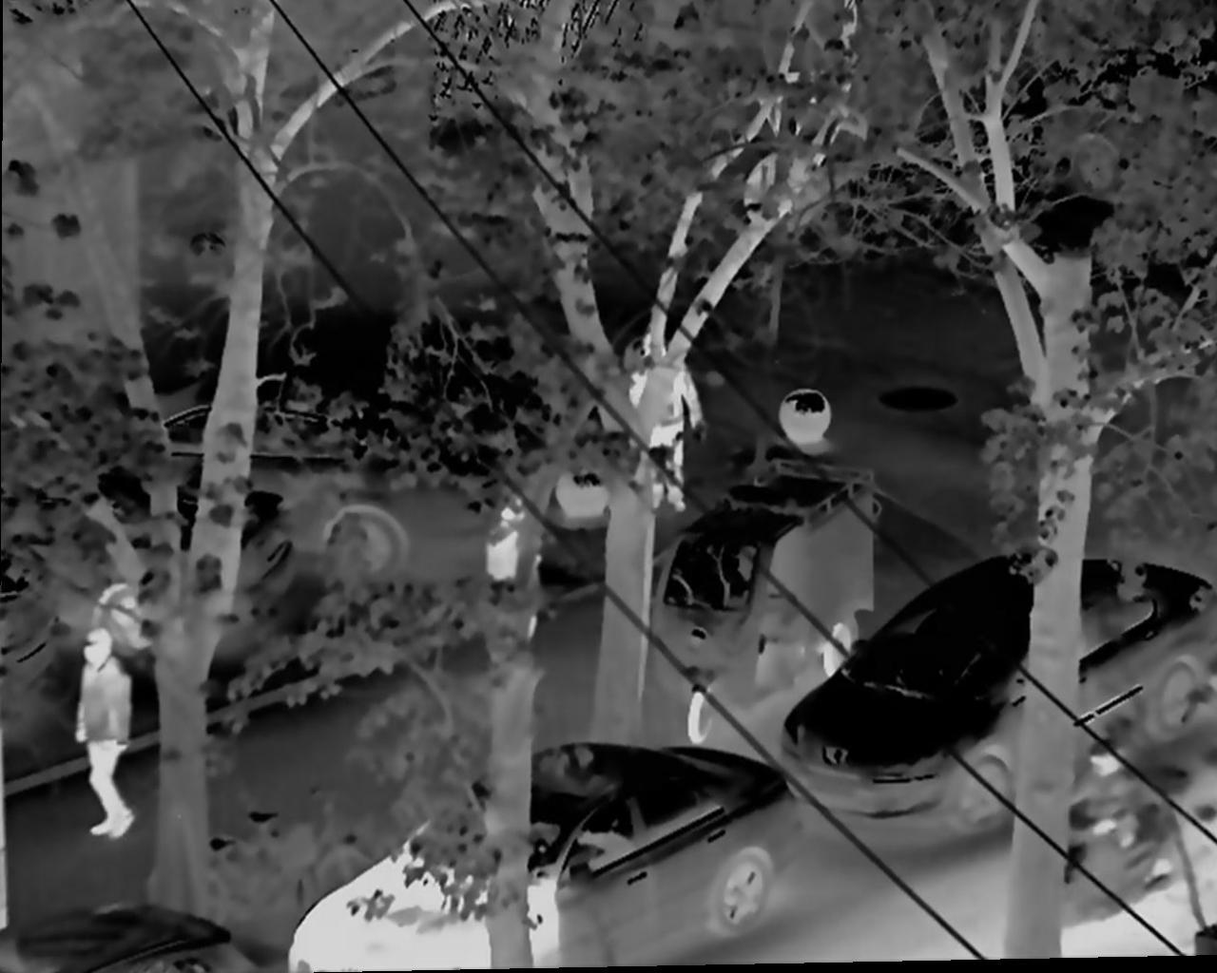person: (65, 625, 150, 848), (630, 329, 710, 524), (474, 482, 545, 659)
